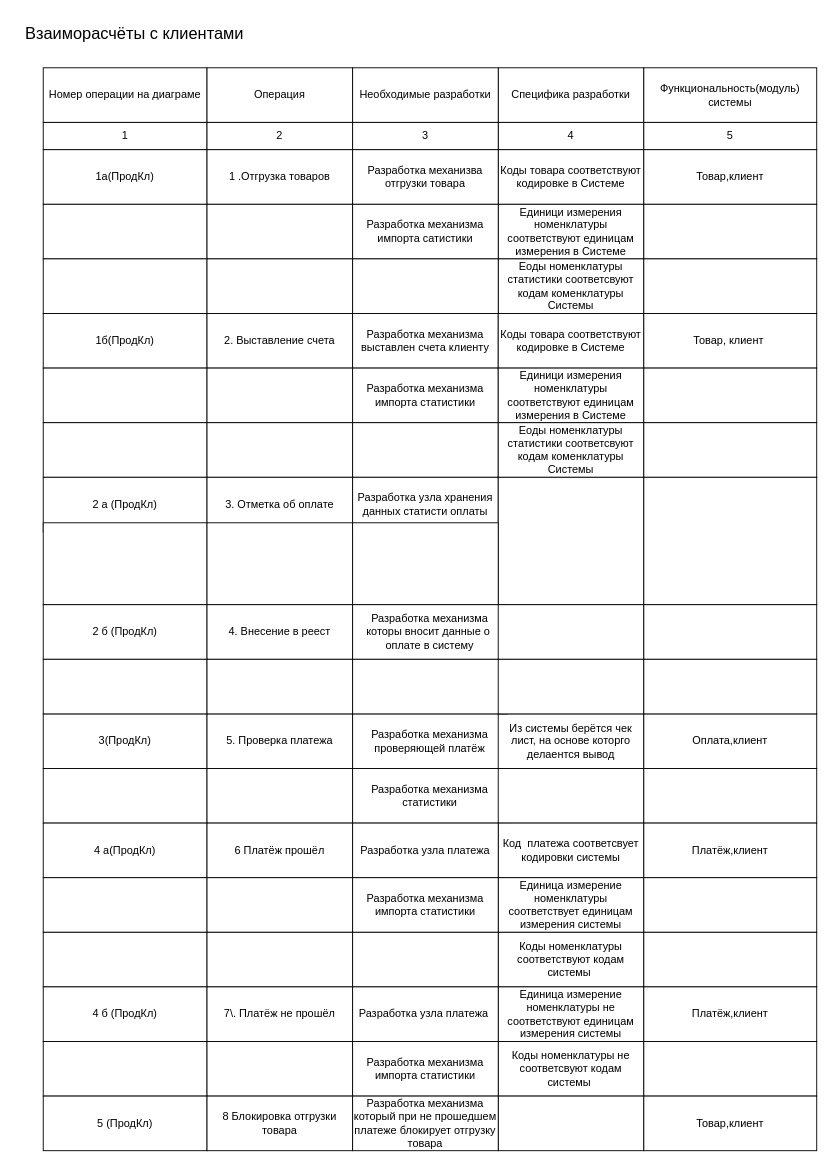
This 833x1167 diagram has some shape labels left out. The shapes that lost their labels are listed below. From the top down, each one's box as (x1, y1, x2, y2) in pixels, then its label:
(497, 476, 644, 605): В системе регистрируется чек лист, на основе которого и формируются другие
(643, 476, 817, 605): Продажи, клиенты
